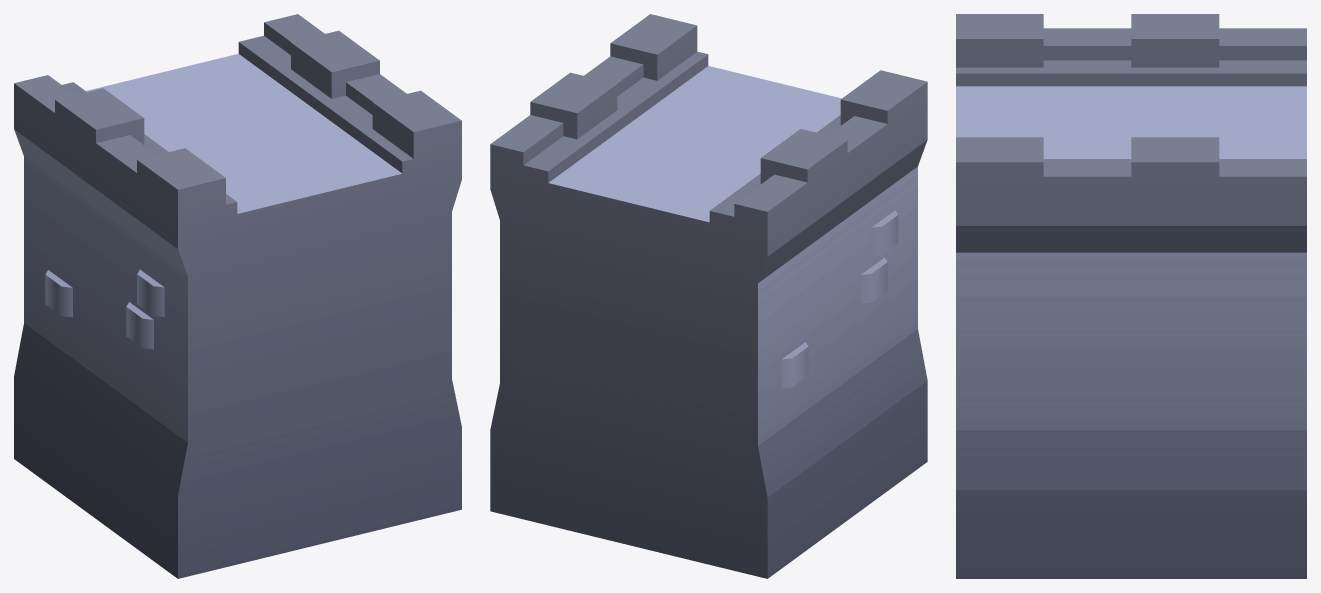
The model's file is wall.001.fbx.
The picture shows the model from 3 angles, left to right: view 1: azimuth 30°, elevation 25°; view 2: azimuth 150°, elevation 25°; view 3: azimuth 270°, elevation 25°; orthographic projection. The views are drawn at different scales.
Visible parts, largest first — view 1: wall.001; view 2: wall.001; view 3: wall.001.
Boxes of the visible parts, left/top/right/bottom form: wall.001: left=14, top=14, right=461, bottom=578; wall.001: left=490, top=14, right=927, bottom=578; wall.001: left=956, top=14, right=1306, bottom=578.
Size of the model in its own units: 1 by 1 by 1.31.
